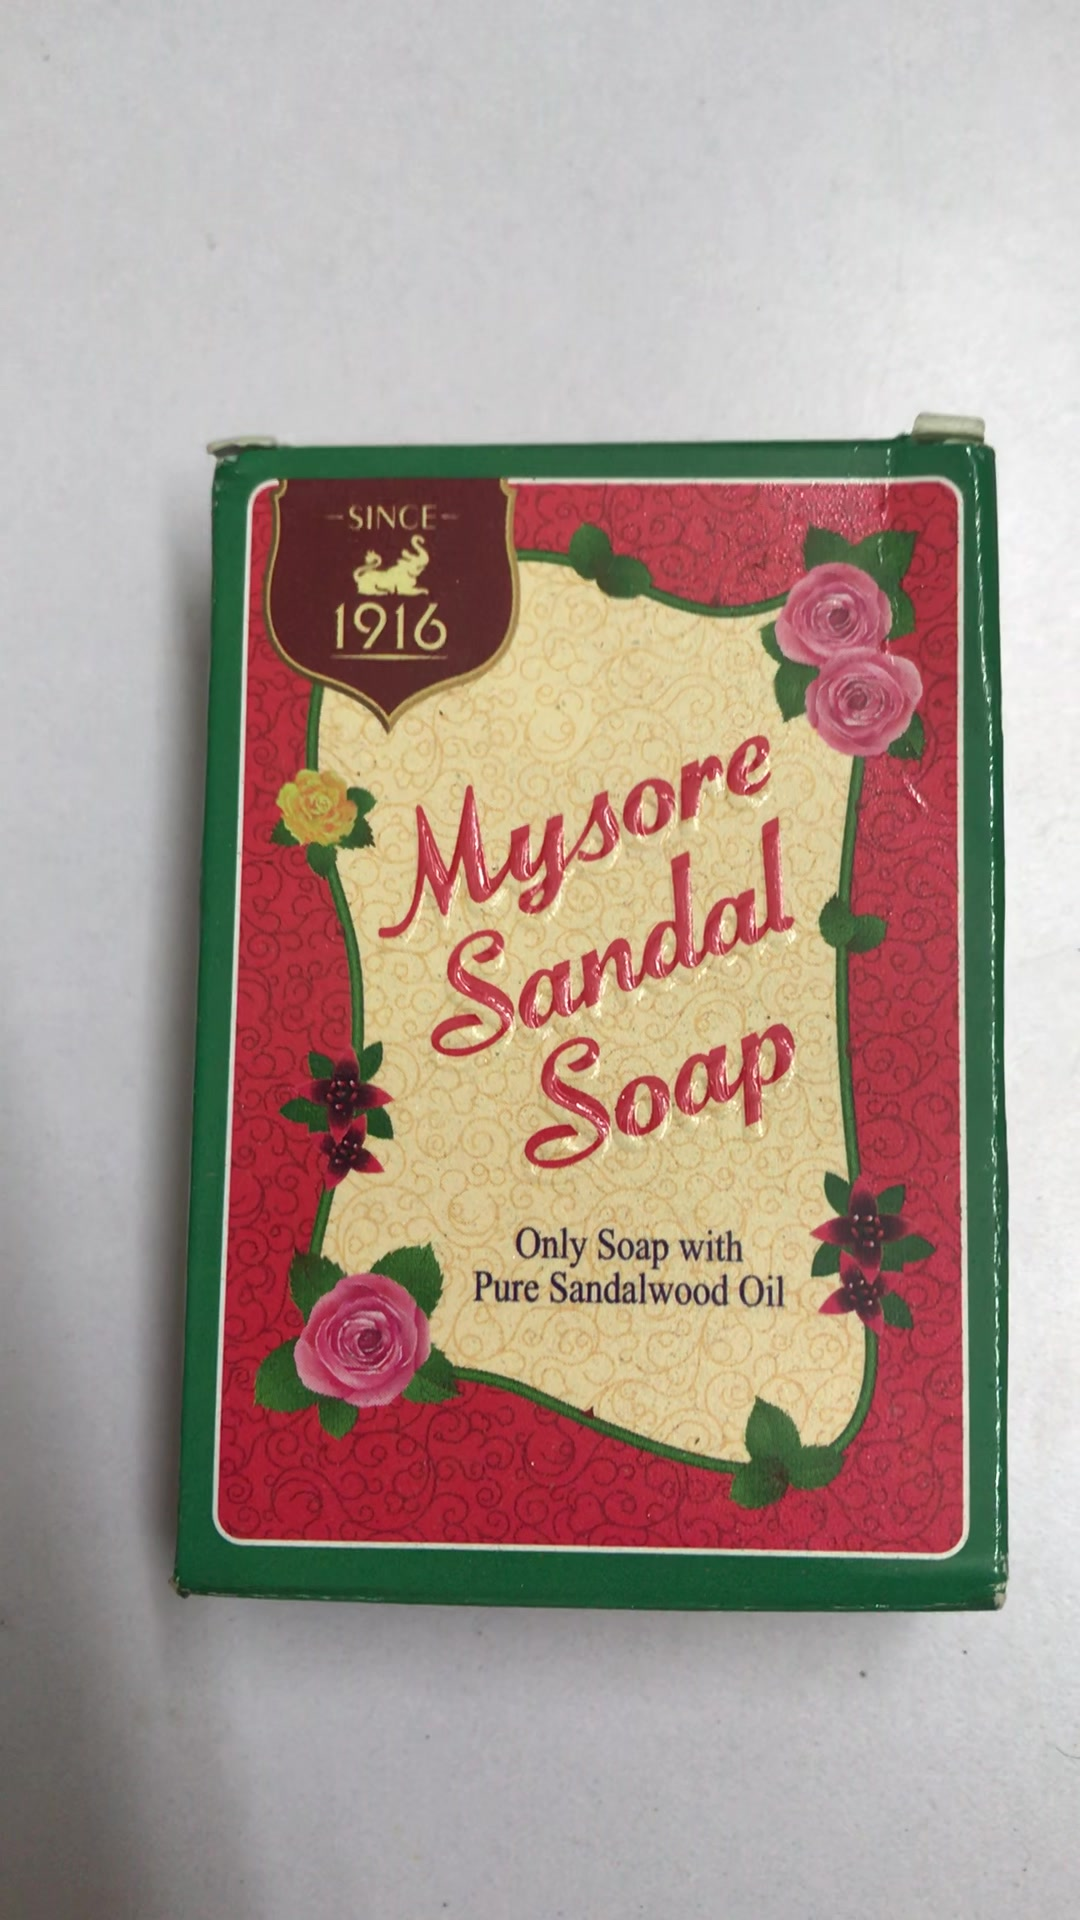mysore sandal soap: (208, 429, 1015, 1607)
